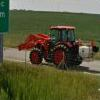Tractor: (21, 20, 89, 67)
